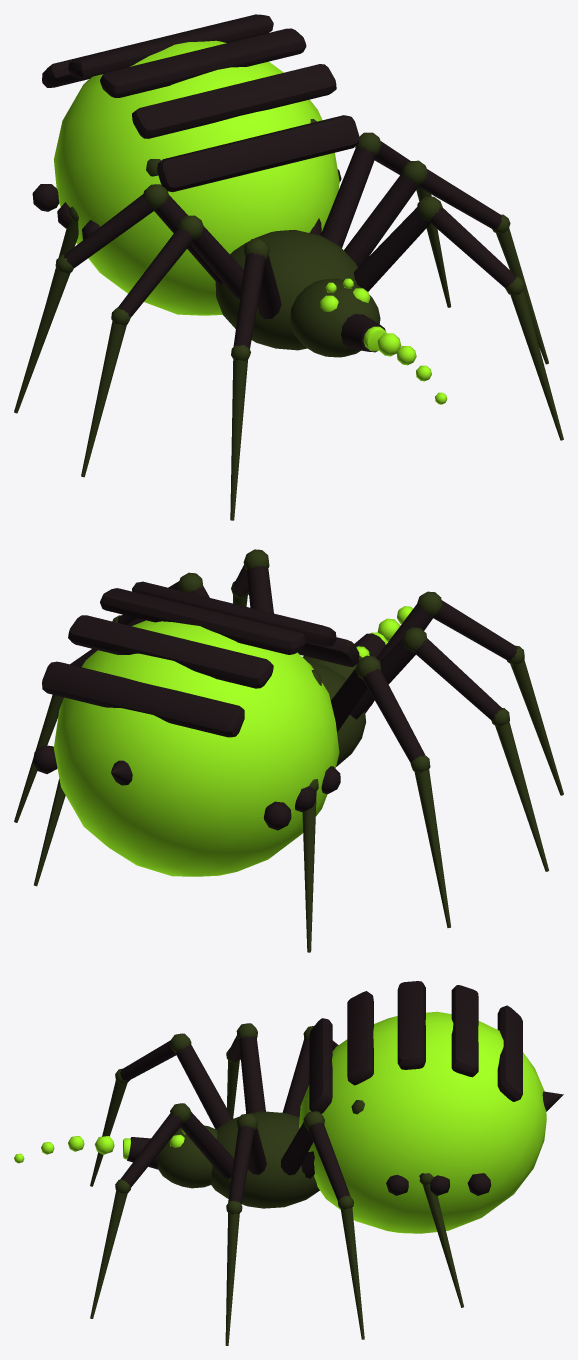
File: AcidSpitter.obj
The picture shows the model from 3 angles, top to bottom: view 1: azimuth 30°, elevation 25°; view 2: azimuth 150°, elevation 25°; view 3: azimuth 270°, elevation 25°; orthographic projection. The views are drawn at different scales.
Visible parts, largest first — view 1: AcidSpitter; view 2: AcidSpitter; view 3: AcidSpitter.
Part boxes in pixels (left/top/right/bottom): AcidSpitter: left=14, top=14, right=563, bottom=520; AcidSpitter: left=14, top=549, right=563, bottom=952; AcidSpitter: left=14, top=981, right=563, bottom=1345.
Size of the model in its own units: 1.09 by 0.6364 by 1.35.
